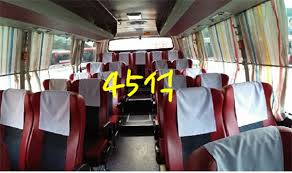seat: (29, 93, 85, 168)
